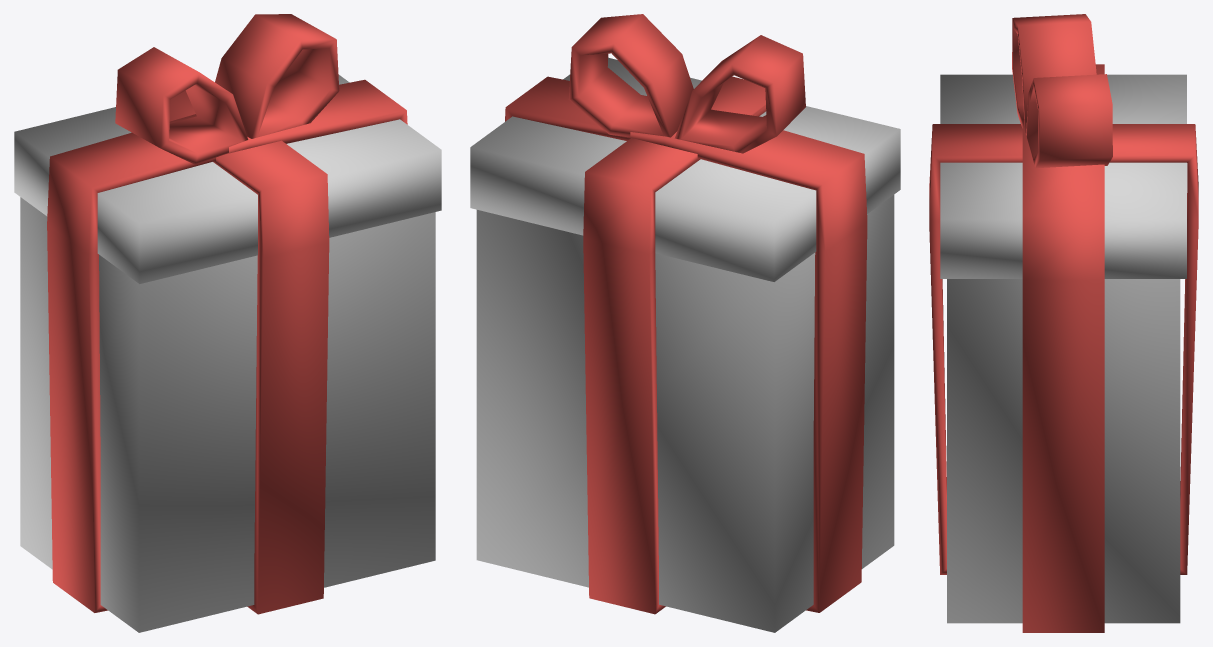
The model's file is GiftBox_Medium.fbx.
3 renders of one model, left to right at view 1: azimuth 30°, elevation 25°; view 2: azimuth 150°, elevation 25°; view 3: azimuth 270°, elevation 25°, orthographic. The views are drawn at different scales.
Visible parts, largest first — view 1: GiftBox_Medium; view 2: GiftBox_Medium; view 3: GiftBox_Medium.
Part boxes in pixels (x1=…): GiftBox_Medium: x1=14, y1=14, x2=441, y2=632; GiftBox_Medium: x1=470, y1=14, x2=900, y2=632; GiftBox_Medium: x1=929, y1=14, x2=1198, y2=632.
Size of the model in its own units: 67.48 by 105 by 49.98.
